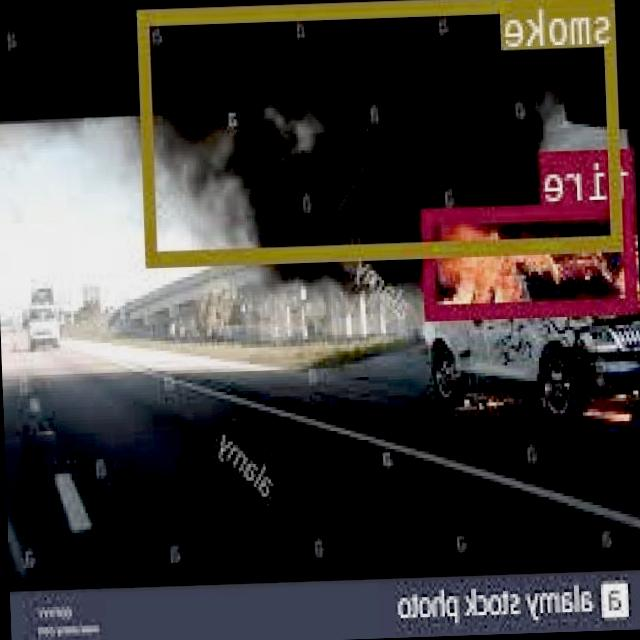fire: (424, 198, 640, 318)
smoke: (139, 0, 623, 263)
